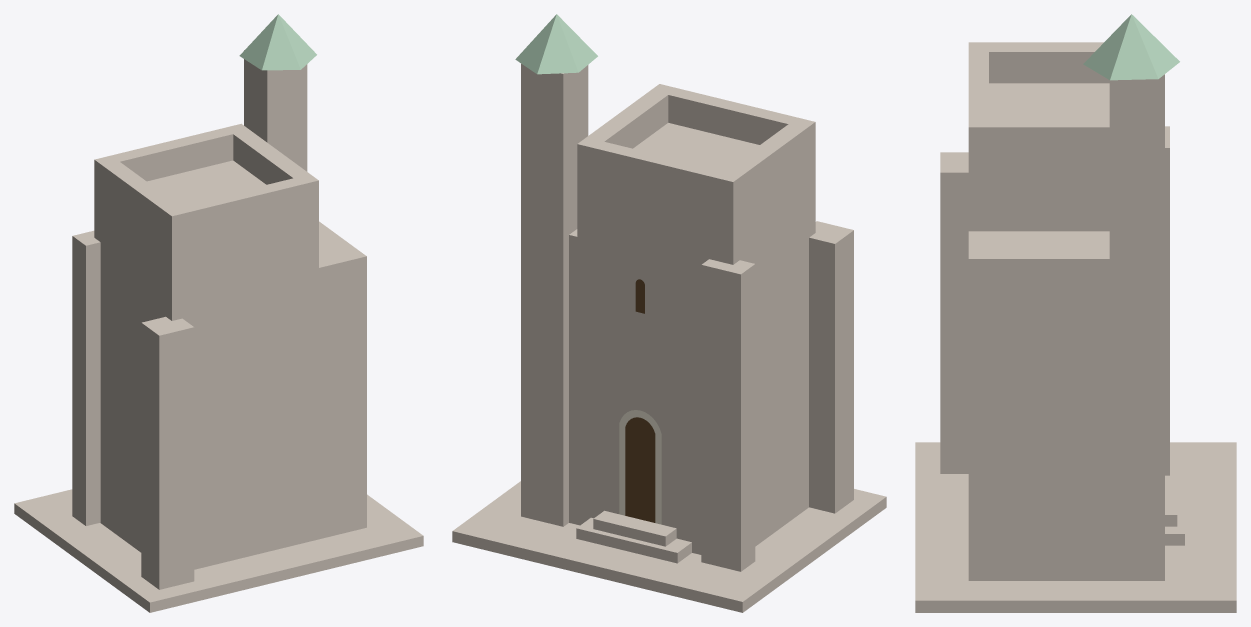
The model's file is Tower.glb.
3 renders of one model, left to right at view 1: azimuth 30°, elevation 25°; view 2: azimuth 150°, elevation 25°; view 3: azimuth 270°, elevation 25°, orthographic. The views are drawn at different scales.
Visible parts, largest first — view 1: Mesh1 Tower1 Model, Mesh2 Tower1 Model, Mesh3 Tower1 Model; view 2: Mesh1 Tower1 Model, Mesh2 Tower1 Model, Mesh3 Tower1 Model; view 3: Mesh1 Tower1 Model, Mesh2 Tower1 Model, Mesh3 Tower1 Model.
Boxes of the visible parts, <box> form: Mesh1 Tower1 Model: <box>94,14,366,589</box>; Mesh2 Tower1 Model: <box>14,489,423,612</box>; Mesh3 Tower1 Model: <box>72,230,100,525</box>; Mesh1 Tower1 Model: <box>515,14,853,563</box>; Mesh2 Tower1 Model: <box>452,481,886,612</box>; Mesh3 Tower1 Model: <box>701,259,755,571</box>; Mesh1 Tower1 Model: <box>940,14,1184,580</box>; Mesh2 Tower1 Model: <box>915,442,1236,612</box>; Mesh3 Tower1 Model: <box>1165,126,1169,475</box>.
Size of the model in its own units: 60.2 by 101 by 51.65.
